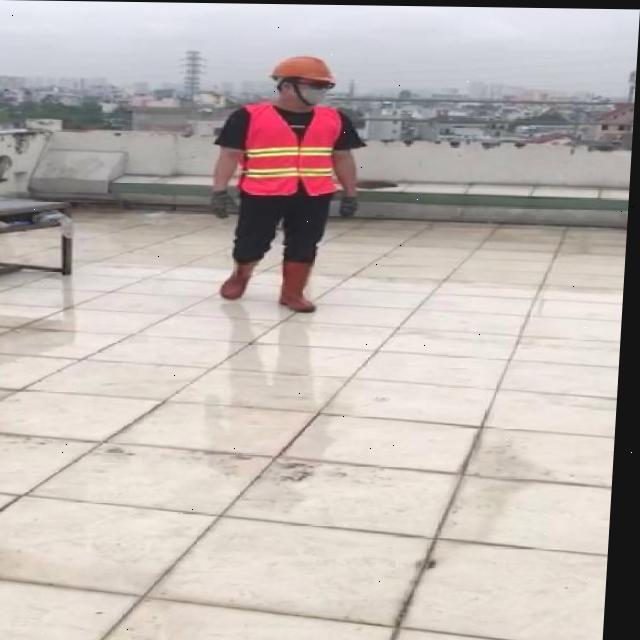Gloves: (214, 188, 244, 217), (342, 193, 363, 215)
Helmet: (272, 54, 339, 86)
Safety-Boot: (282, 258, 323, 310), (224, 257, 261, 299)
Safety-Vest: (240, 101, 348, 196)
